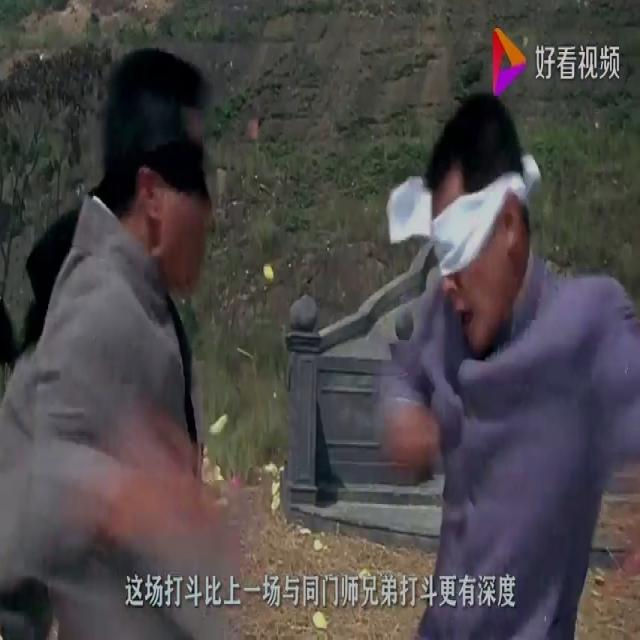fight: (0, 46, 639, 640)
